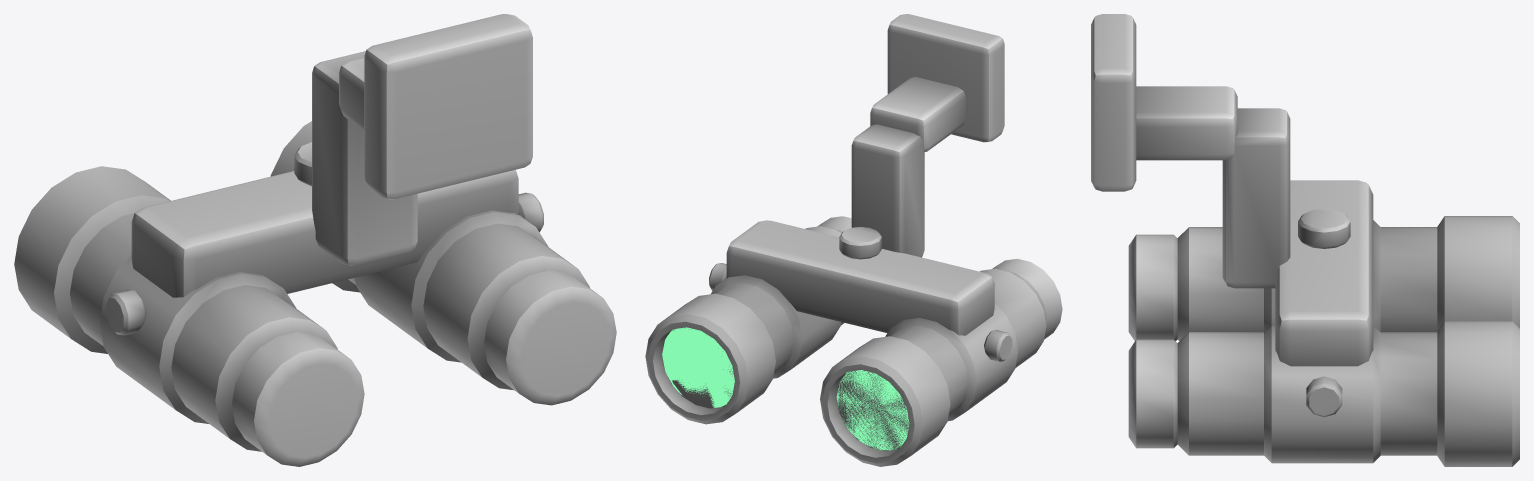
Rendered from nvg.glb.
The picture shows the model from 3 angles, left to right: view 1: azimuth 30°, elevation 25°; view 2: azimuth 150°, elevation 25°; view 3: azimuth 270°, elevation 25°; orthographic projection. The views are drawn at different scales.
Parts seen in each view (by area): view 1: Tubes, Mount; view 2: Tubes, Mount, Lens; view 3: Tubes, Mount.
Part boxes in pixels (x1,y1,x2,y2): Tubes: (14,51,616,466); Mount: (339,14,532,199); Tubes: (645,124,1062,466); Mount: (870,14,1004,152); Lens: (662,327,909,450); Tubes: (1128,108,1519,466); Mount: (1091,14,1237,191).
Bounding box in the file's own units: 0.11 × 0.1072 × 0.114.
